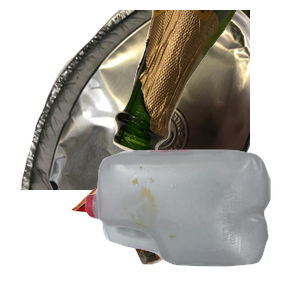glass: (111, 10, 300, 158)
metal: (18, 10, 258, 190)
plastic: (83, 147, 300, 300)
trash: (69, 153, 239, 300)
